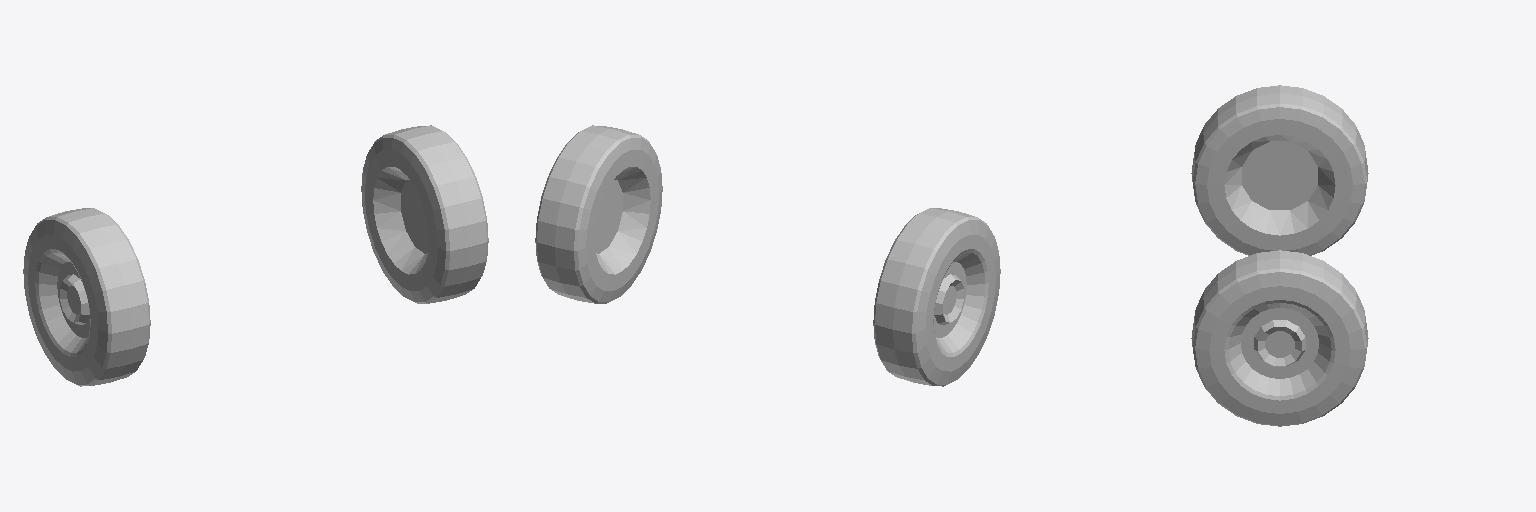
File: BuggyBackWheel.obj
The picture shows the model from 3 angles: view 1: azimuth 30°, elevation 25°; view 2: azimuth 150°, elevation 25°; view 3: azimuth 270°, elevation 25°; orthographic projection.
Visible parts, largest first — view 1: BuggyWheels.003, BuggyWheels.001; view 2: BuggyWheels.003, BuggyWheels.001; view 3: BuggyWheels.001, BuggyWheels.003.
Part boxes in pixels (x1,y1,x2,y2): BuggyWheels.003: (23, 208, 150, 386); BuggyWheels.001: (361, 125, 488, 303); BuggyWheels.003: (873, 208, 1000, 386); BuggyWheels.001: (535, 125, 662, 303); BuggyWheels.001: (1191, 250, 1368, 426); BuggyWheels.003: (1191, 85, 1368, 255).
Size of the model in its own units: 4.87 by 1.94 by 1.94.